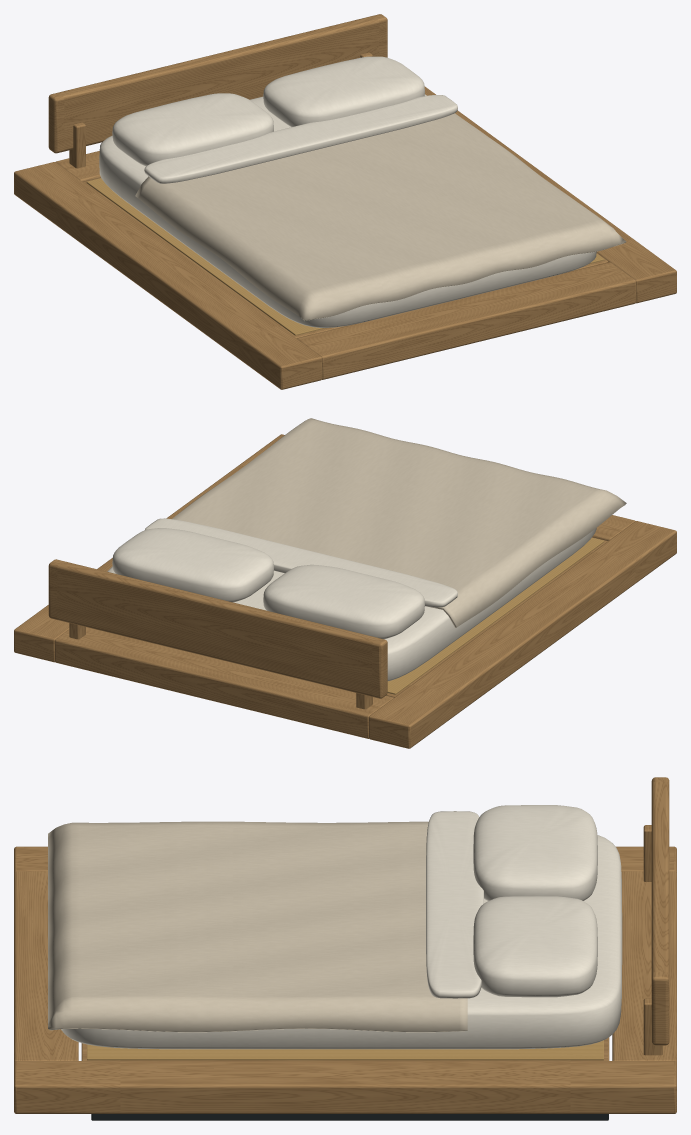
The picture shows the model from 3 angles, top to bottom: view 1: azimuth 30°, elevation 25°; view 2: azimuth 150°, elevation 25°; view 3: azimuth 270°, elevation 25°; orthographic projection. The views are drawn at different scales.
Parts seen in each view (by area): view 1: Bedding | softly draped quilt, Platform | broad side timber, Platform | cross timber, Headrest | floating low panel, Mattress | upholstered ticking, Bedding | folded return, Bedding | sewn pillow, Bedding | sewn pillow.001, Platform | broad side timber.001, Tatami | woven insert, Tatami | framed support panel, Platform | cross timber.001 (+1 smaller); view 2: Bedding | softly draped quilt, Headrest | floating low panel, Platform | broad side timber, Platform | cross timber.001, Bedding | sewn pillow, Bedding | sewn pillow.001, Mattress | upholstered ticking, Bedding | folded return, Platform | broad side timber.001, Tatami | woven insert, Platform | cross timber, Tatami | framed support panel; view 3: Bedding | softly draped quilt, Platform | broad side timber.001, Mattress | upholstered ticking, Bedding | sewn pillow.001, Bedding | sewn pillow, Bedding | folded return, Platform | cross timber, Platform | cross timber.001, Tatami | woven insert.002, Headrest | floating low panel, Recessed structural plinth, Platform | broad side timber (+2 smaller).
Part boxes in pixels (x1=…): Bedding | softly draped quilt: x1=135, y1=113, x2=626, y2=320; Platform | broad side timber: x1=14, y1=162, x2=321, y2=389; Platform | cross timber: x1=297, y1=262, x2=635, y2=379; Headrest | floating low panel: x1=48, y1=14, x2=387, y2=153; Mattress | upholstered ticking: x1=99, y1=94, x2=596, y2=327; Bedding | folded return: x1=144, y1=95, x2=457, y2=183; Bedding | sewn pillow: x1=112, y1=93, x2=273, y2=166; Bedding | sewn pillow.001: x1=263, y1=56, x2=424, y2=127; Platform | broad side timber.001: x1=424, y1=86, x2=676, y2=303; Tatami | woven insert: x1=86, y1=178, x2=326, y2=335; Tatami | framed support panel: x1=83, y1=178, x2=355, y2=338; Platform | cross timber.001: x1=55, y1=151, x2=100, y2=181; Bedding | softly draped quilt: x1=172, y1=418, x2=626, y2=627; Headrest | floating low panel: x1=48, y1=559, x2=387, y2=698; Platform | broad side timber: x1=369, y1=521, x2=676, y2=748; Platform | cross timber.001: x1=55, y1=627, x2=393, y2=738; Bedding | sewn pillow: x1=263, y1=564, x2=424, y2=639; Bedding | sewn pillow.001: x1=112, y1=528, x2=273, y2=602; Mattress | upholstered ticking: x1=107, y1=528, x2=596, y2=681; Bedding | folded return: x1=145, y1=518, x2=457, y2=607; Platform | broad side timber.001: x1=14, y1=434, x2=284, y2=662; Tatami | woven insert: x1=387, y1=537, x2=604, y2=694; Platform | cross timber: x1=592, y1=515, x2=635, y2=540; Tatami | framed support panel: x1=386, y1=537, x2=607, y2=697; Bedding | softly draped quilt: x1=48, y1=821, x2=467, y2=1032; Platform | broad side timber.001: x1=14, y1=1061, x2=676, y2=1113; Mattress | upholstered ticking: x1=61, y1=835, x2=622, y2=1049; Bedding | sewn pillow.001: x1=473, y1=896, x2=597, y2=997; Bedding | sewn pillow: x1=473, y1=805, x2=597, y2=900; Bedding | folded return: x1=426, y1=811, x2=483, y2=998; Platform | cross timber: x1=14, y1=871, x2=78, y2=1062; Platform | cross timber.001: x1=612, y1=871, x2=676, y2=1062; Tatami | woven insert.002: x1=87, y1=1040, x2=603, y2=1060; Headrest | floating low panel: x1=651, y1=777, x2=669, y2=1045; Recessed structural plinth: x1=91, y1=1114, x2=608, y2=1120; Platform | broad side timber: x1=14, y1=846, x2=676, y2=872.
Bounding box in the file's own units: 1.95 × 0.572 × 2.28.
6 materials, 4 textured.
